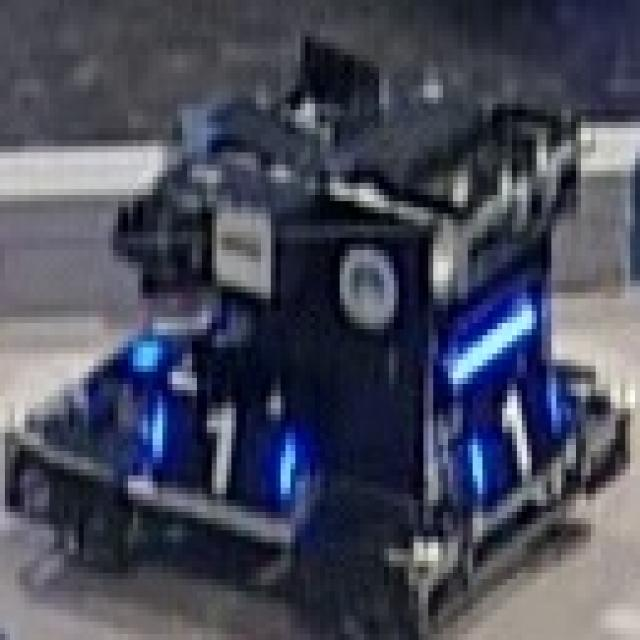B1: (133, 396, 300, 506), (458, 366, 576, 500)
